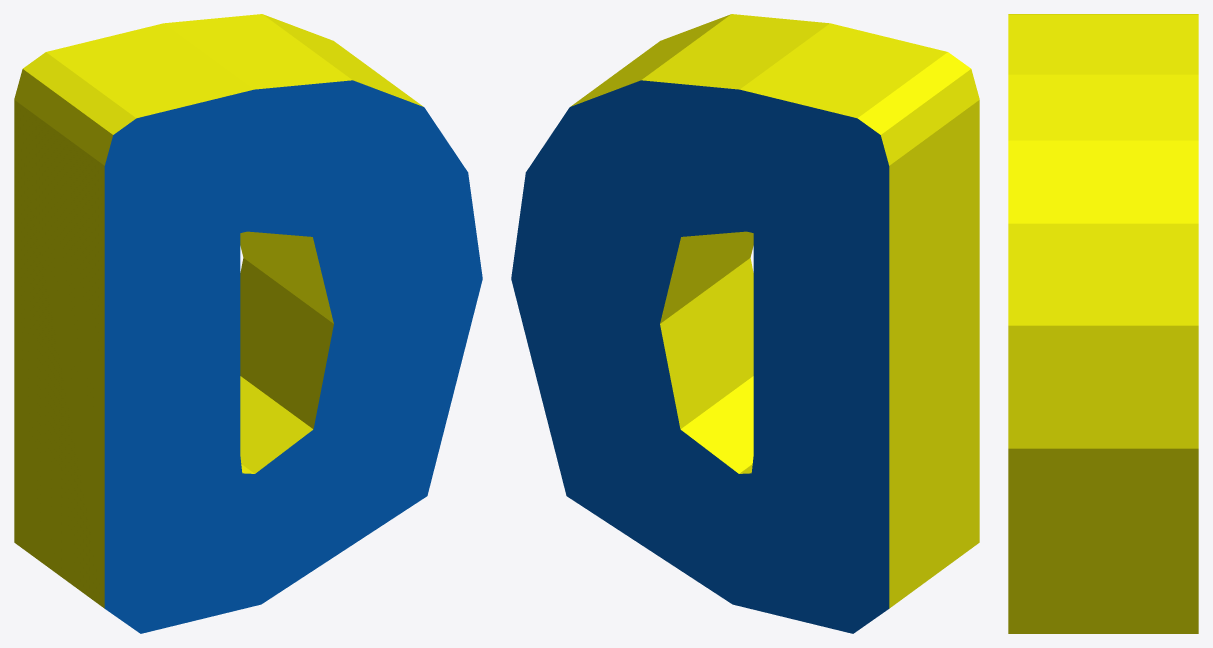
The picture shows the model from 3 angles, left to right: view 1: azimuth 30°, elevation 25°; view 2: azimuth 150°, elevation 25°; view 3: azimuth 270°, elevation 25°; orthographic projection. The views are drawn at different scales.
Parts seen in each view (by area): view 1: text: ABCDEFGHIJKLMNOPQRSTUVWXYZ01234567891_sep4_blue, text: ABCDEFGHIJKLMNOPQRSTUVWXYZ01234567891_sep4_yellow; view 2: text: ABCDEFGHIJKLMNOPQRSTUVWXYZ01234567891_sep4_blue, text: ABCDEFGHIJKLMNOPQRSTUVWXYZ01234567891_sep4_yellow; view 3: text: ABCDEFGHIJKLMNOPQRSTUVWXYZ01234567891_sep4_yellow.
Boxes of the visible parts, x1,y1,x2,y2 form: text: ABCDEFGHIJKLMNOPQRSTUVWXYZ01234567891_sep4_blue: [104, 80, 482, 633]; text: ABCDEFGHIJKLMNOPQRSTUVWXYZ01234567891_sep4_yellow: [14, 14, 423, 608]; text: ABCDEFGHIJKLMNOPQRSTUVWXYZ01234567891_sep4_blue: [511, 80, 889, 633]; text: ABCDEFGHIJKLMNOPQRSTUVWXYZ01234567891_sep4_yellow: [570, 14, 979, 608]; text: ABCDEFGHIJKLMNOPQRSTUVWXYZ01234567891_sep4_yellow: [1008, 14, 1198, 633].
Size of the model in its own units: 60.22 by 78.65 by 25.
